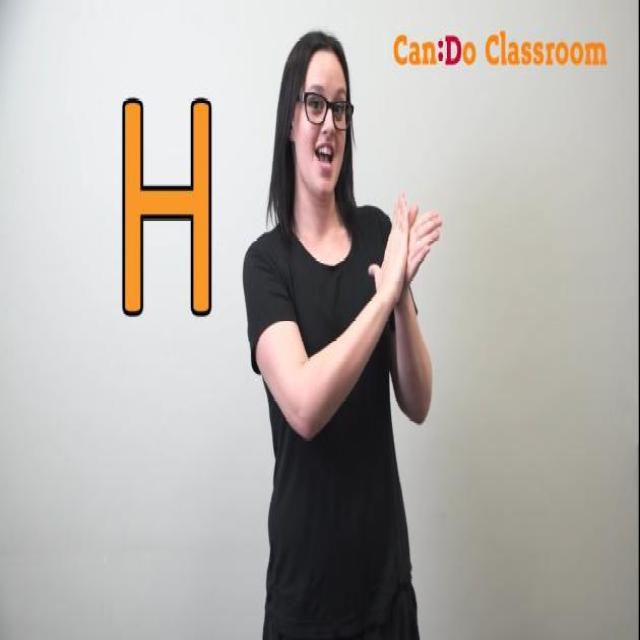H: (360, 166, 460, 360)
